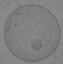small: (31, 39, 42, 51)
